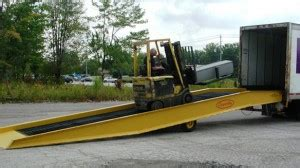Pallet Jack: (132, 38, 234, 109)
Yard Ramp: (1, 87, 284, 149)
